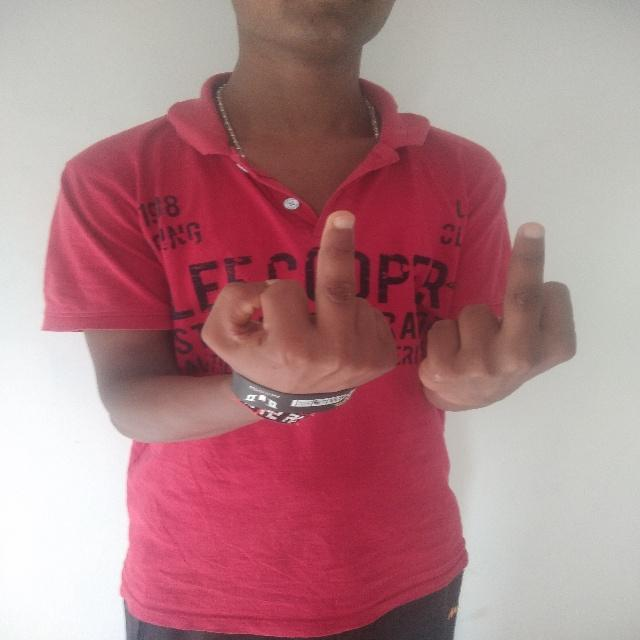Middle Finger: (201, 202, 407, 426), (414, 217, 581, 428)
